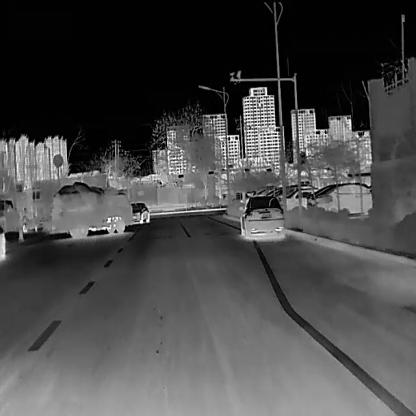car: (307, 181, 371, 217), (238, 195, 285, 239), (277, 188, 315, 211), (130, 200, 148, 223)
truck: (51, 180, 131, 238)
